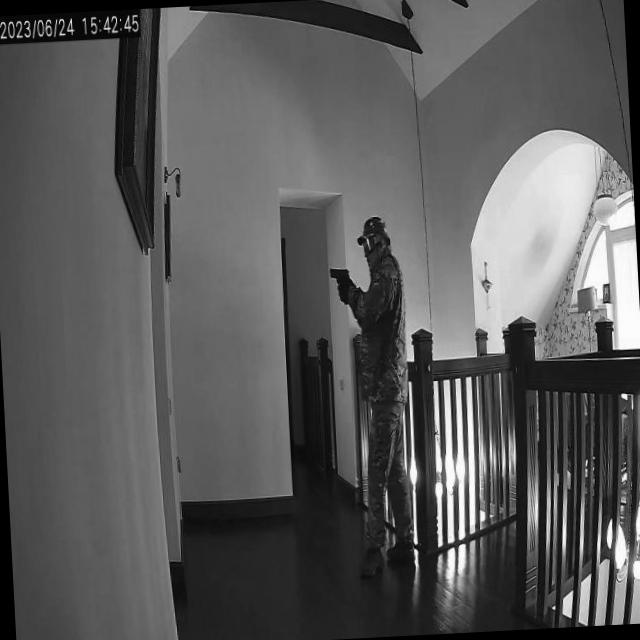gun: (329, 262, 355, 297)
person with a gun: (326, 214, 416, 576)
